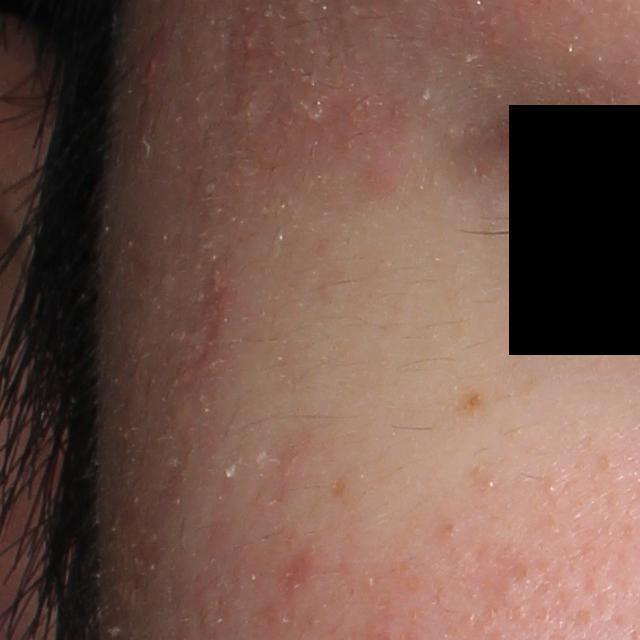comedo: (481, 477, 498, 493), (546, 483, 558, 495)
melasma: (458, 388, 485, 415)
papule: (139, 53, 160, 78)
